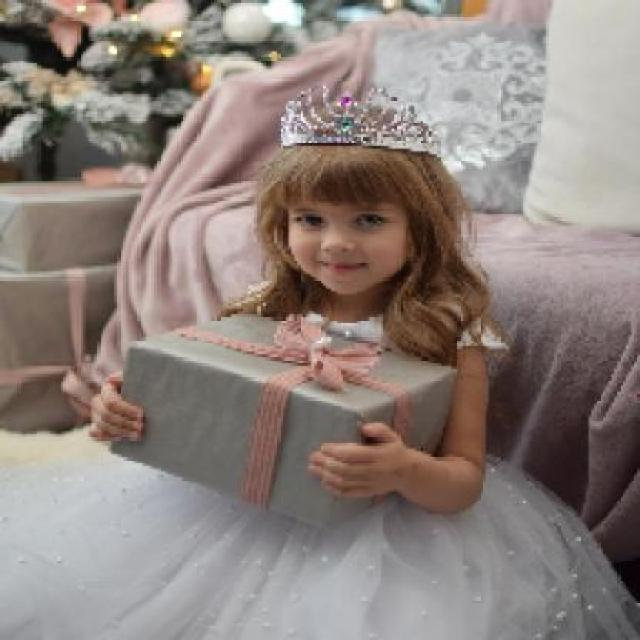child: (0, 82, 637, 638)
